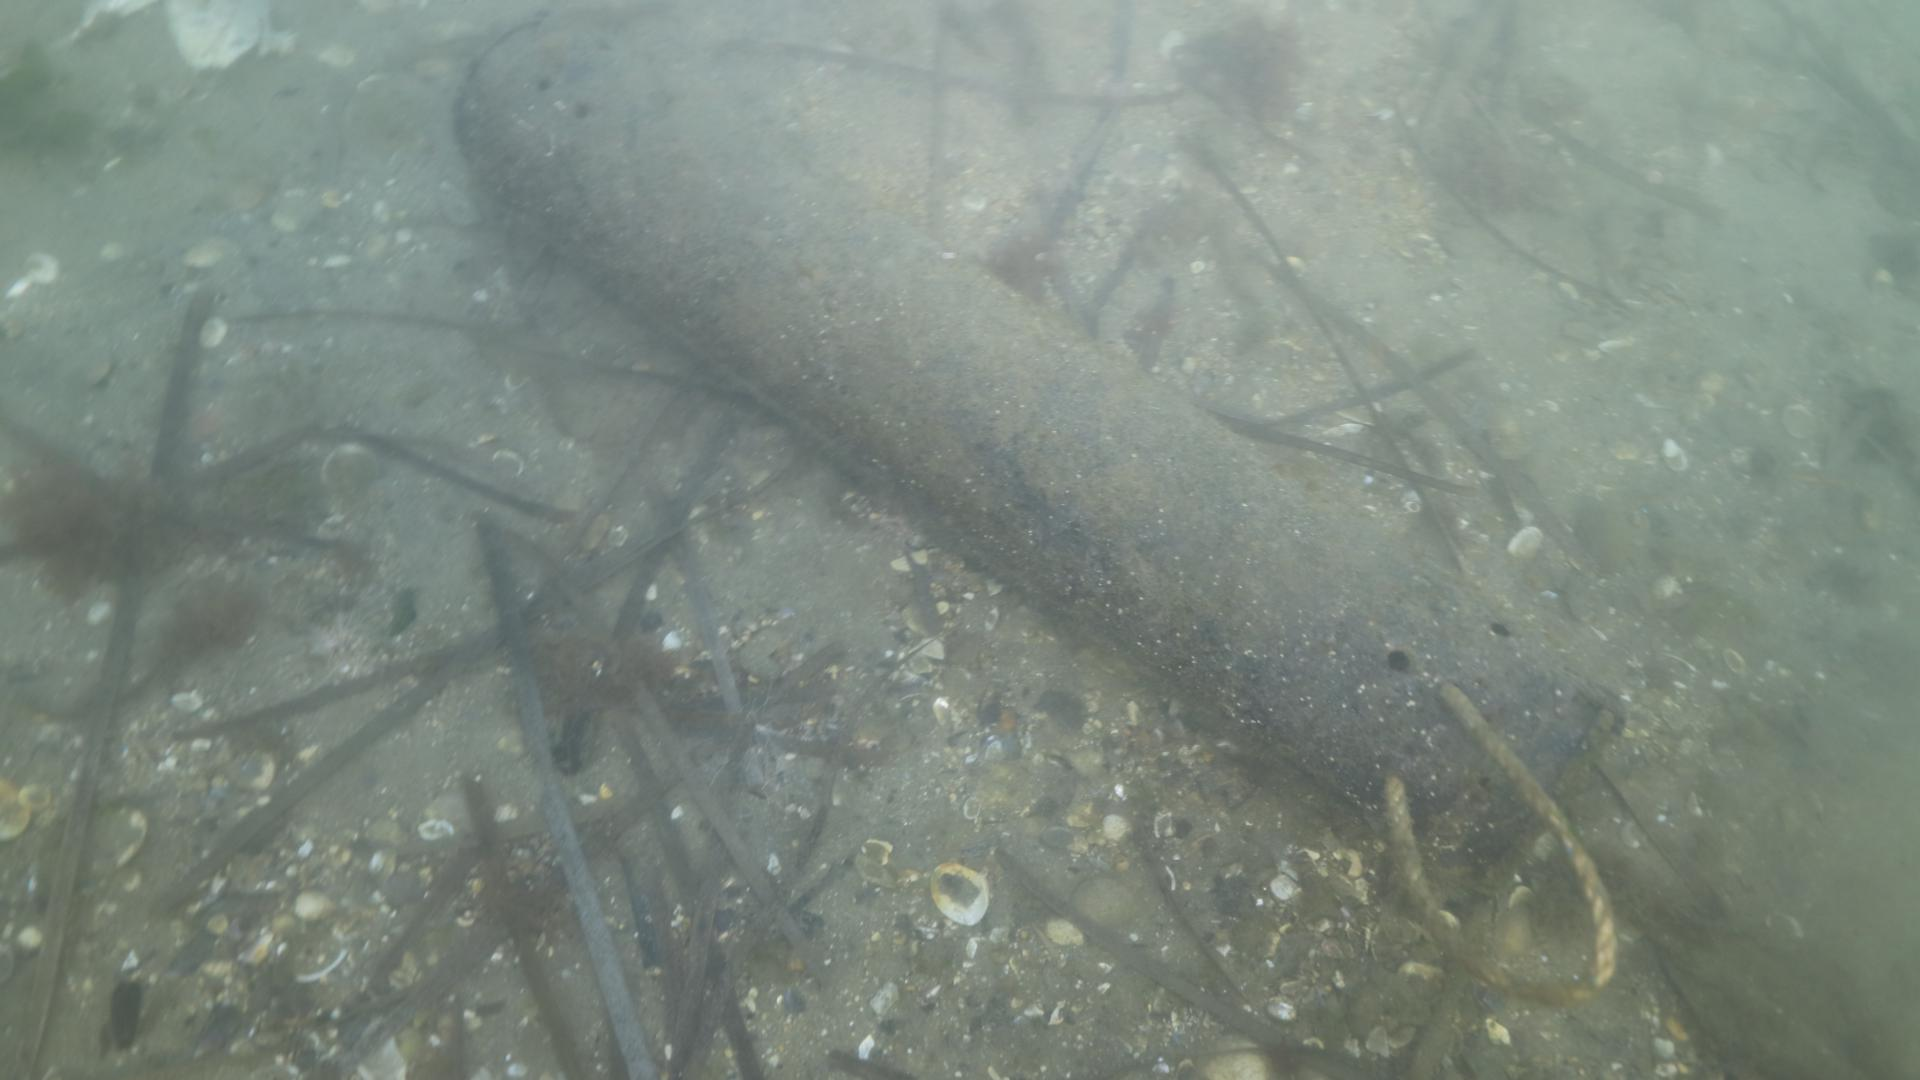eel fish trap: (459, 12, 1611, 890)
rope: (1373, 682, 1621, 1004)
